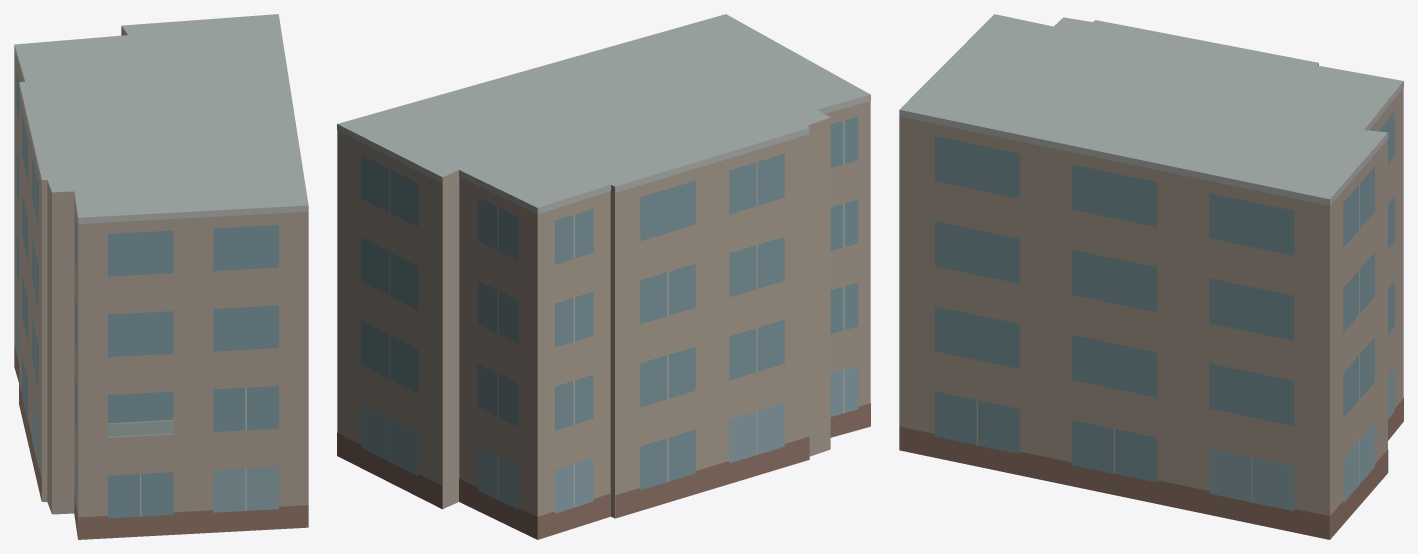
File: survey-upis-32782579.glb
3 renders of one model, left to right at view 1: azimuth 30°, elevation 25°; view 2: azimuth 150°, elevation 25°; view 3: azimuth 270°, elevation 25°, orthographic. The views are drawn at different scales.
Parts seen in each view (by area): view 1: survey-upis-32782579.tmp; view 2: survey-upis-32782579.tmp; view 3: survey-upis-32782579.tmp.
Part boxes in pixels (box(x1,y1,x2,y2)): survey-upis-32782579.tmp: box(14, 14, 308, 539); survey-upis-32782579.tmp: box(337, 14, 870, 539); survey-upis-32782579.tmp: box(899, 14, 1403, 539).
Size of the model in its own units: 14.71 by 12.6 by 16.92.
